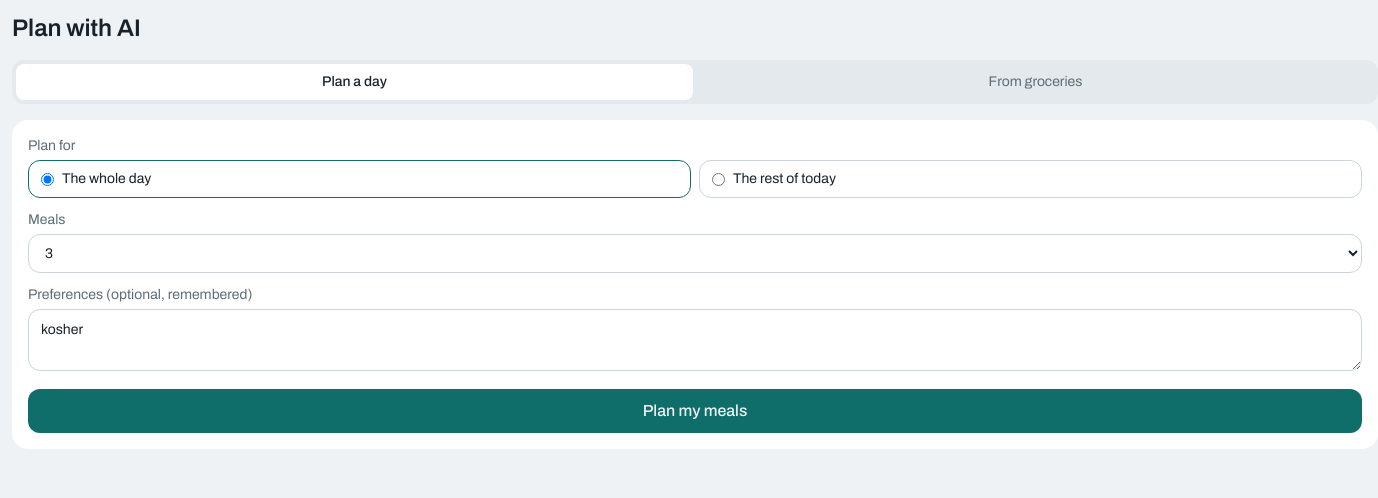
PlanWithAi › shows AI errors in words
Step 1. Click the button "Plan my meals" → point(695, 411), box [28,389,1362,433]
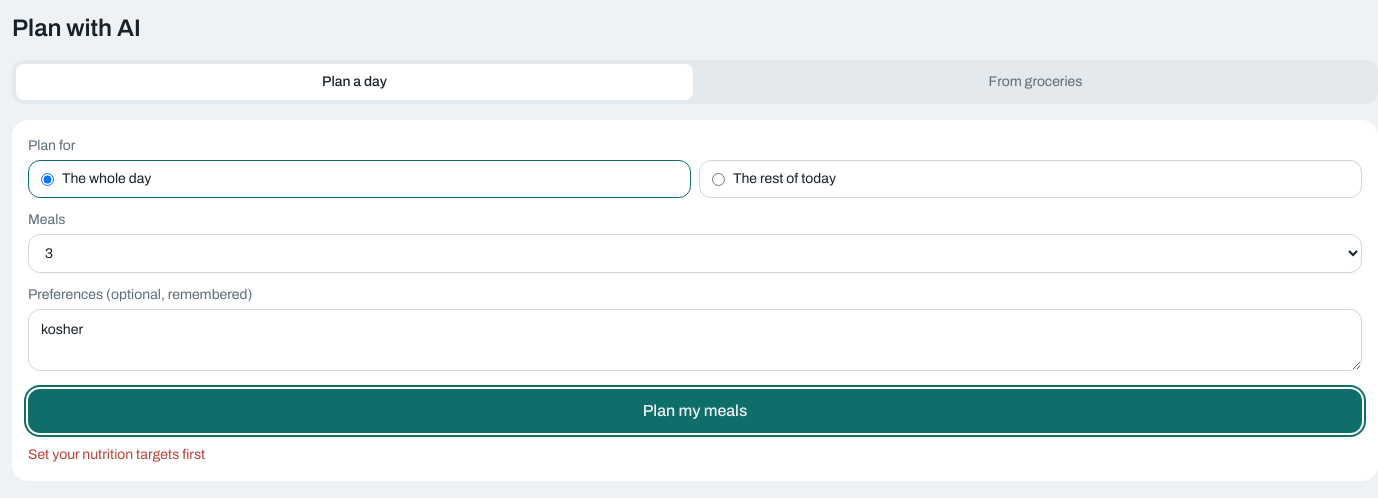
Expected: the message reads "Set your nutrition targets first", [28,447,205,462]
